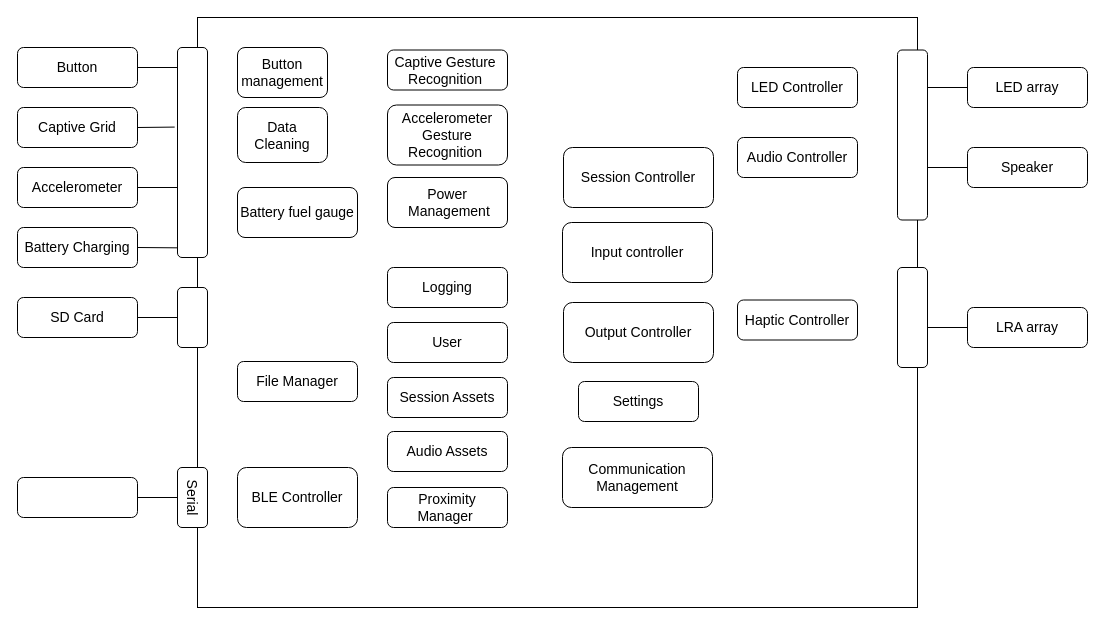
The diagram is 1105 pixels wide and 625 high, and some of its shapes have lost their labels. Each missing label, with the centre of its shape:
BLE Radio: (77,497)
I2C: (192,152)
IO: (912,134)
PWM: (912,317)
SPI: (192,317)
